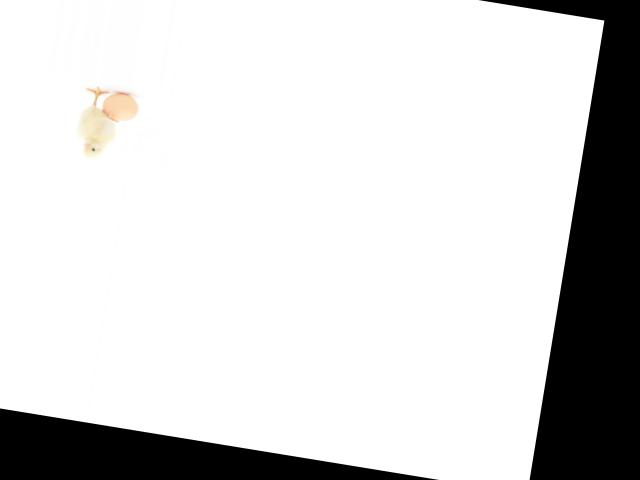egg: (99, 90, 140, 124)
